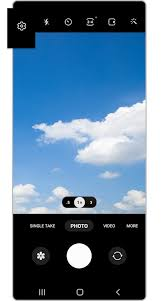camera: (64, 239, 93, 273)
